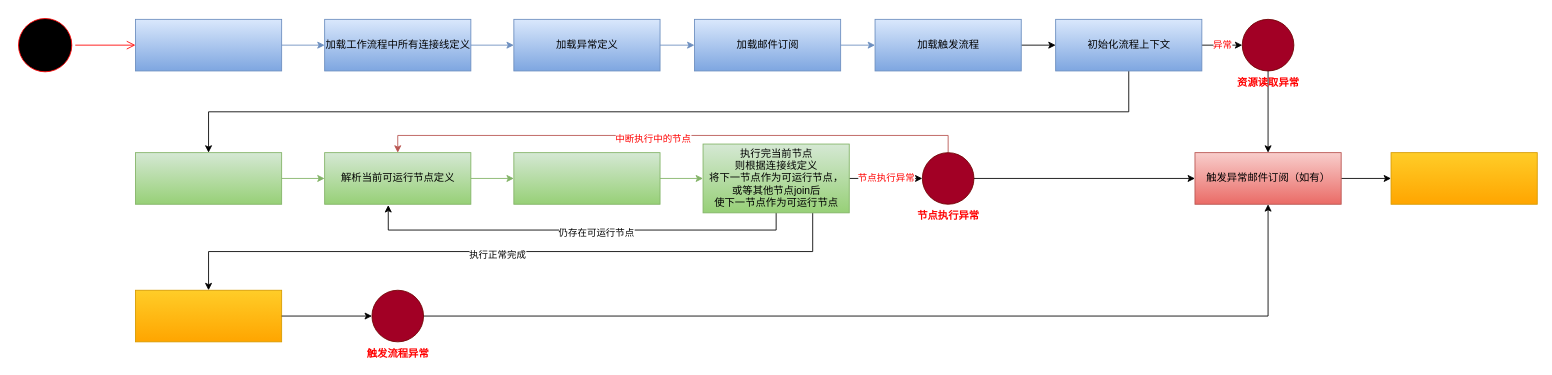
The diagram is 1552 pixels wide and 375 high, and some of its shapes have lost their labels. The box of each missing label's shape, as (x1, y1, x2, y2) in pixels:
全流程上下文日志打印: (1390, 152, 1537, 204)
加载工作流程中所有节点定义: (135, 18, 282, 71)
完成并触发下一工作流程: (135, 289, 282, 342)
若与数据集、数据安全 定义相关则读取解析，织入节点: (513, 152, 660, 204)
解析所有开始节点 （可能为多个） 作为可运行节点: (135, 152, 282, 204)
